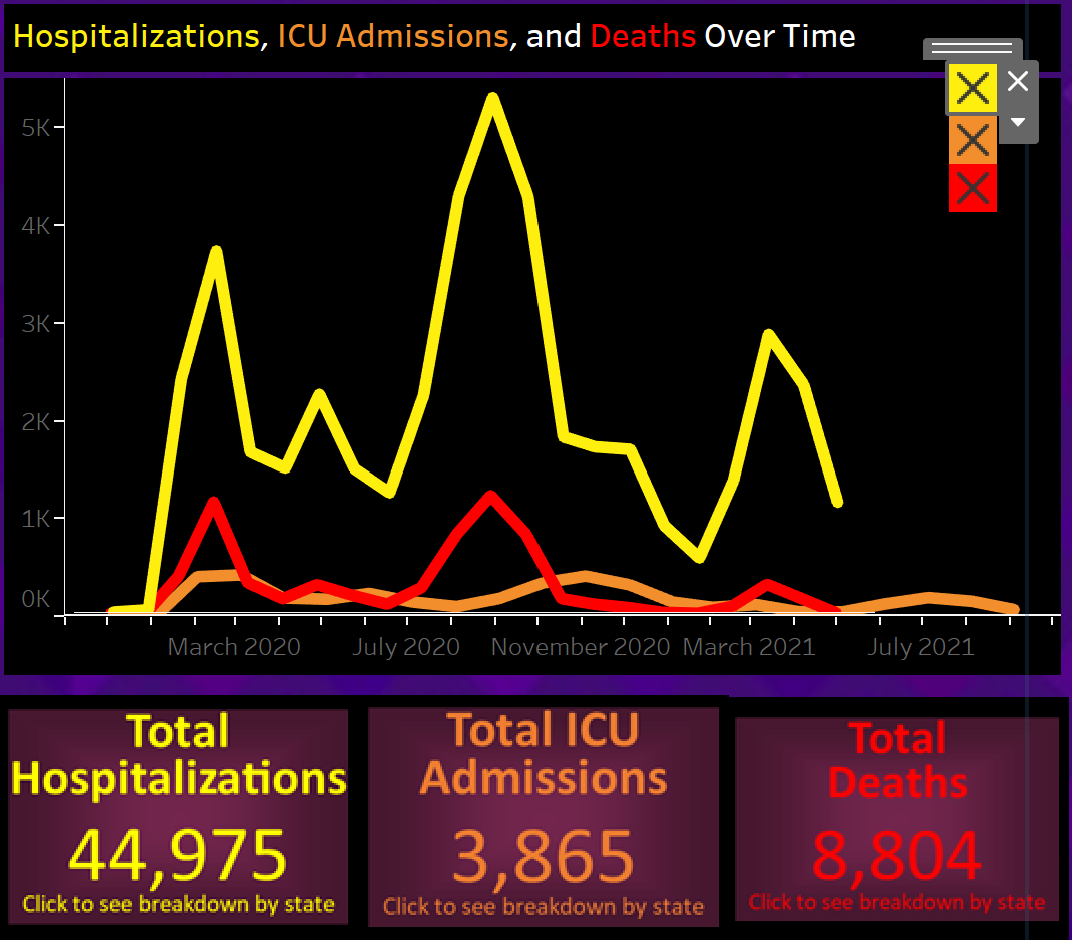

This screenshot's page, from the dashboard's own definition file:
{"tool":"tableau","page":{"name":"2.1","canvas":[1200,800],"ordinal":0},"visuals":[{"type":"text","box":[8,0,606,71]},{"type":"text","box":[614,0,578,71]},{"type":"worksheet","title":"ICU_line","mark":"Automatic","rows":["ICU"],"cols":["Case Month"],"box":[692,173,467,335]},{"type":"dashboard-object","box":[1161,175,24,24]},{"type":"worksheet","title":"Map","mark":"Multipolygon","box":[9,202,412,363]},{"type":"dashboard-object","box":[1160,202,24,24]},{"type":"worksheet","title":"Hosp_line","mark":"Automatic","rows":["Hospitalization"],"cols":["Case Month"],"box":[723,211,400,266]},{"type":"dashboard-object","box":[1160,229,24,24]},{"type":"worksheet","title":"Death_line","mark":"Automatic","rows":["Death"],"cols":["Case Month"],"box":[722,277,400,200]},{"type":"legend","title":"Map","box":[25,421,139,104]},{"type":"dashboard-object","box":[884,516,180,119]},{"type":"dashboard-object","box":[698,517,180,123]}]}

Visuals, with their boxes on the page's 1200x800 design canvas (x1, y1, x2, y2). These are canvas units, not pixel positions in the 1072x940 screenshot, which may show the page scaled, cropped or inside an application window:
text: left=8, top=0, right=614, bottom=71
text: left=614, top=0, right=1192, bottom=71
"ICU_line" worksheet: left=692, top=173, right=1159, bottom=508
dashboard-object: left=1161, top=175, right=1185, bottom=199
"Map" worksheet (Multipolygon marks): left=9, top=202, right=421, bottom=565
dashboard-object: left=1160, top=202, right=1184, bottom=226
"Hosp_line" worksheet: left=723, top=211, right=1123, bottom=477
dashboard-object: left=1160, top=229, right=1184, bottom=253
"Death_line" worksheet: left=722, top=277, right=1122, bottom=477
"Map" legend: left=25, top=421, right=164, bottom=525
dashboard-object: left=884, top=516, right=1064, bottom=635
dashboard-object: left=698, top=517, right=878, bottom=640
